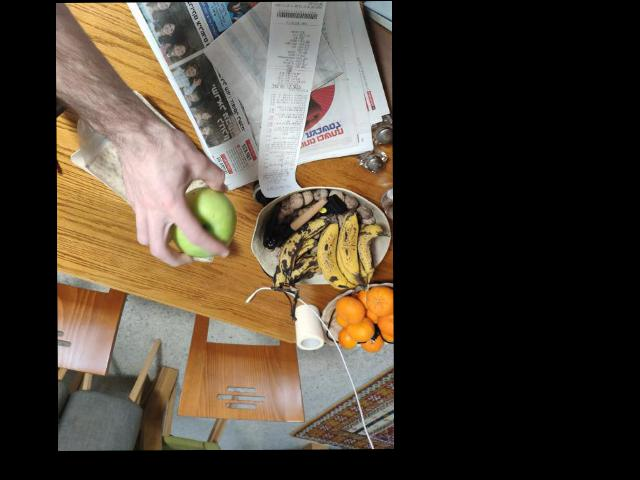apple: (170, 184, 235, 261)
